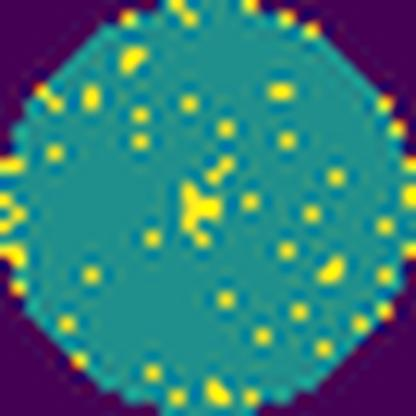Center: (172, 178, 228, 257)
